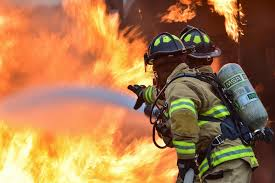emergent: (131, 31, 264, 181)
